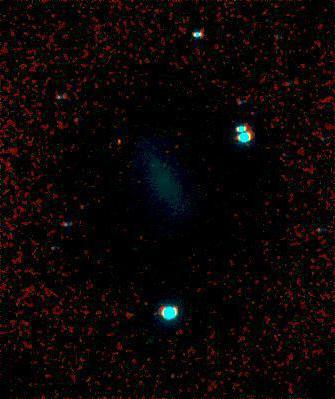star: (103, 127, 133, 157)
